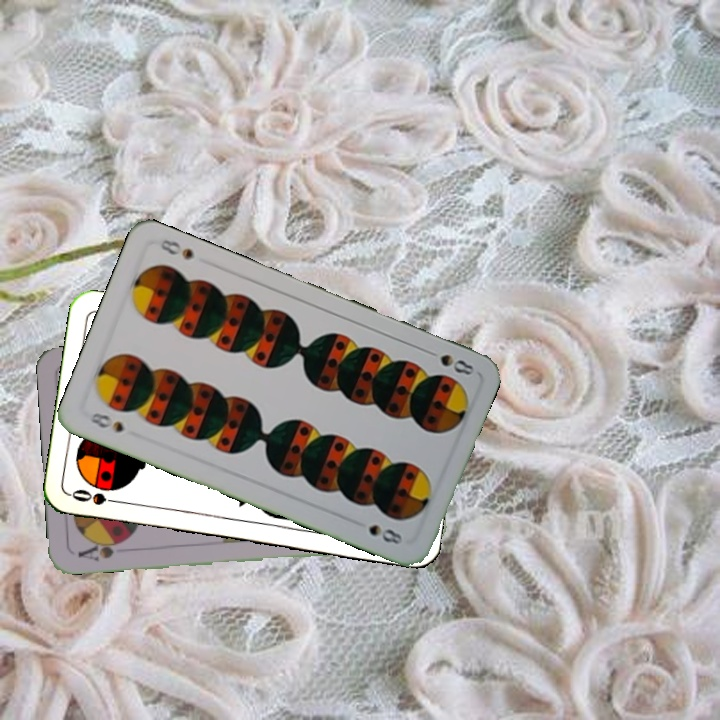S8: (85, 408, 126, 436), (436, 350, 477, 378)
SA: (73, 536, 131, 564)
SO: (68, 485, 127, 508)
